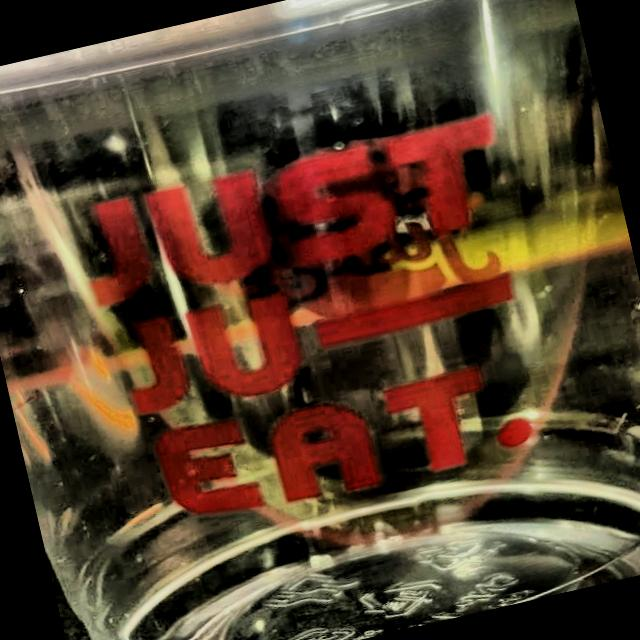plastic cup: (66, 99, 572, 550)
